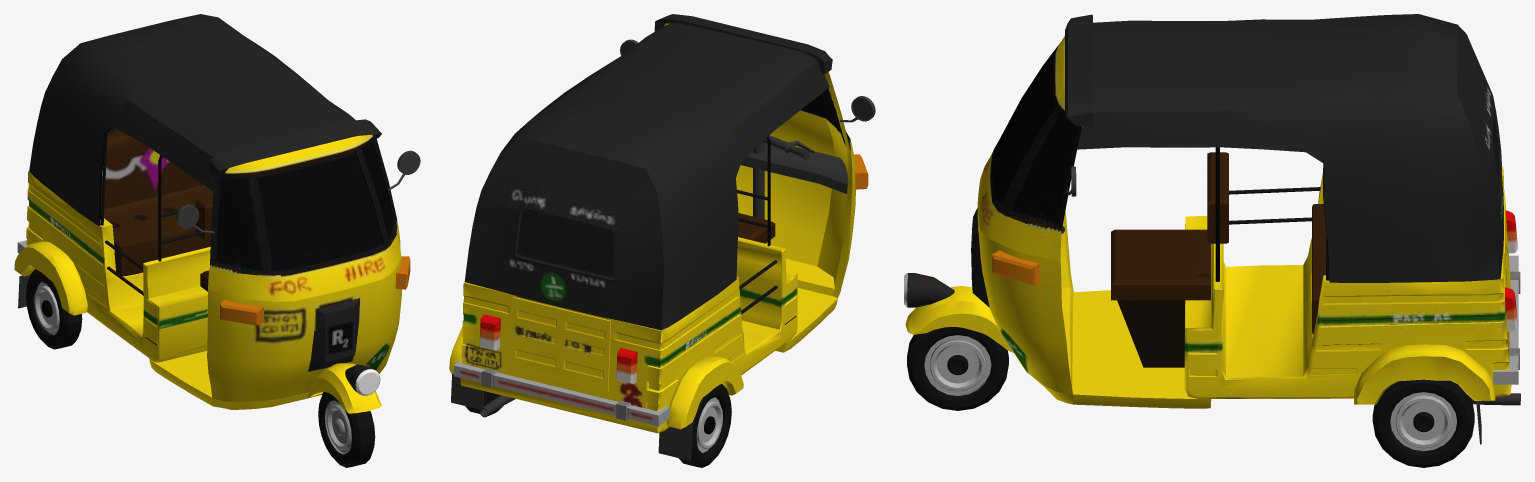
Rendered from autorickshaw.glb.
3 views of the same model, side by side, from view 1: azimuth 30°, elevation 25°; view 2: azimuth 150°, elevation 25°; view 3: azimuth 270°, elevation 25° (orthographic). The views are drawn at different scales.
Parts seen in each view (by area): view 1: autorickshaw, wheel_f, wheel_rr; view 2: autorickshaw, wheel_rr; view 3: autorickshaw, wheel_f, wheel_rl.
Part boxes in pixels (x1,y1,x2,y2): autorickshaw: [14, 14, 420, 429]; wheel_f: [318, 392, 375, 467]; wheel_rr: [26, 273, 82, 349]; autorickshaw: [449, 14, 875, 460]; wheel_rr: [679, 388, 731, 467]; autorickshaw: [904, 14, 1520, 444]; wheel_f: [907, 327, 1008, 410]; wheel_rl: [1373, 382, 1474, 467].
Bounding box in the file's own units: 1.46 × 1.7 × 2.65.
Materials: 1 (1 with a texture image).
